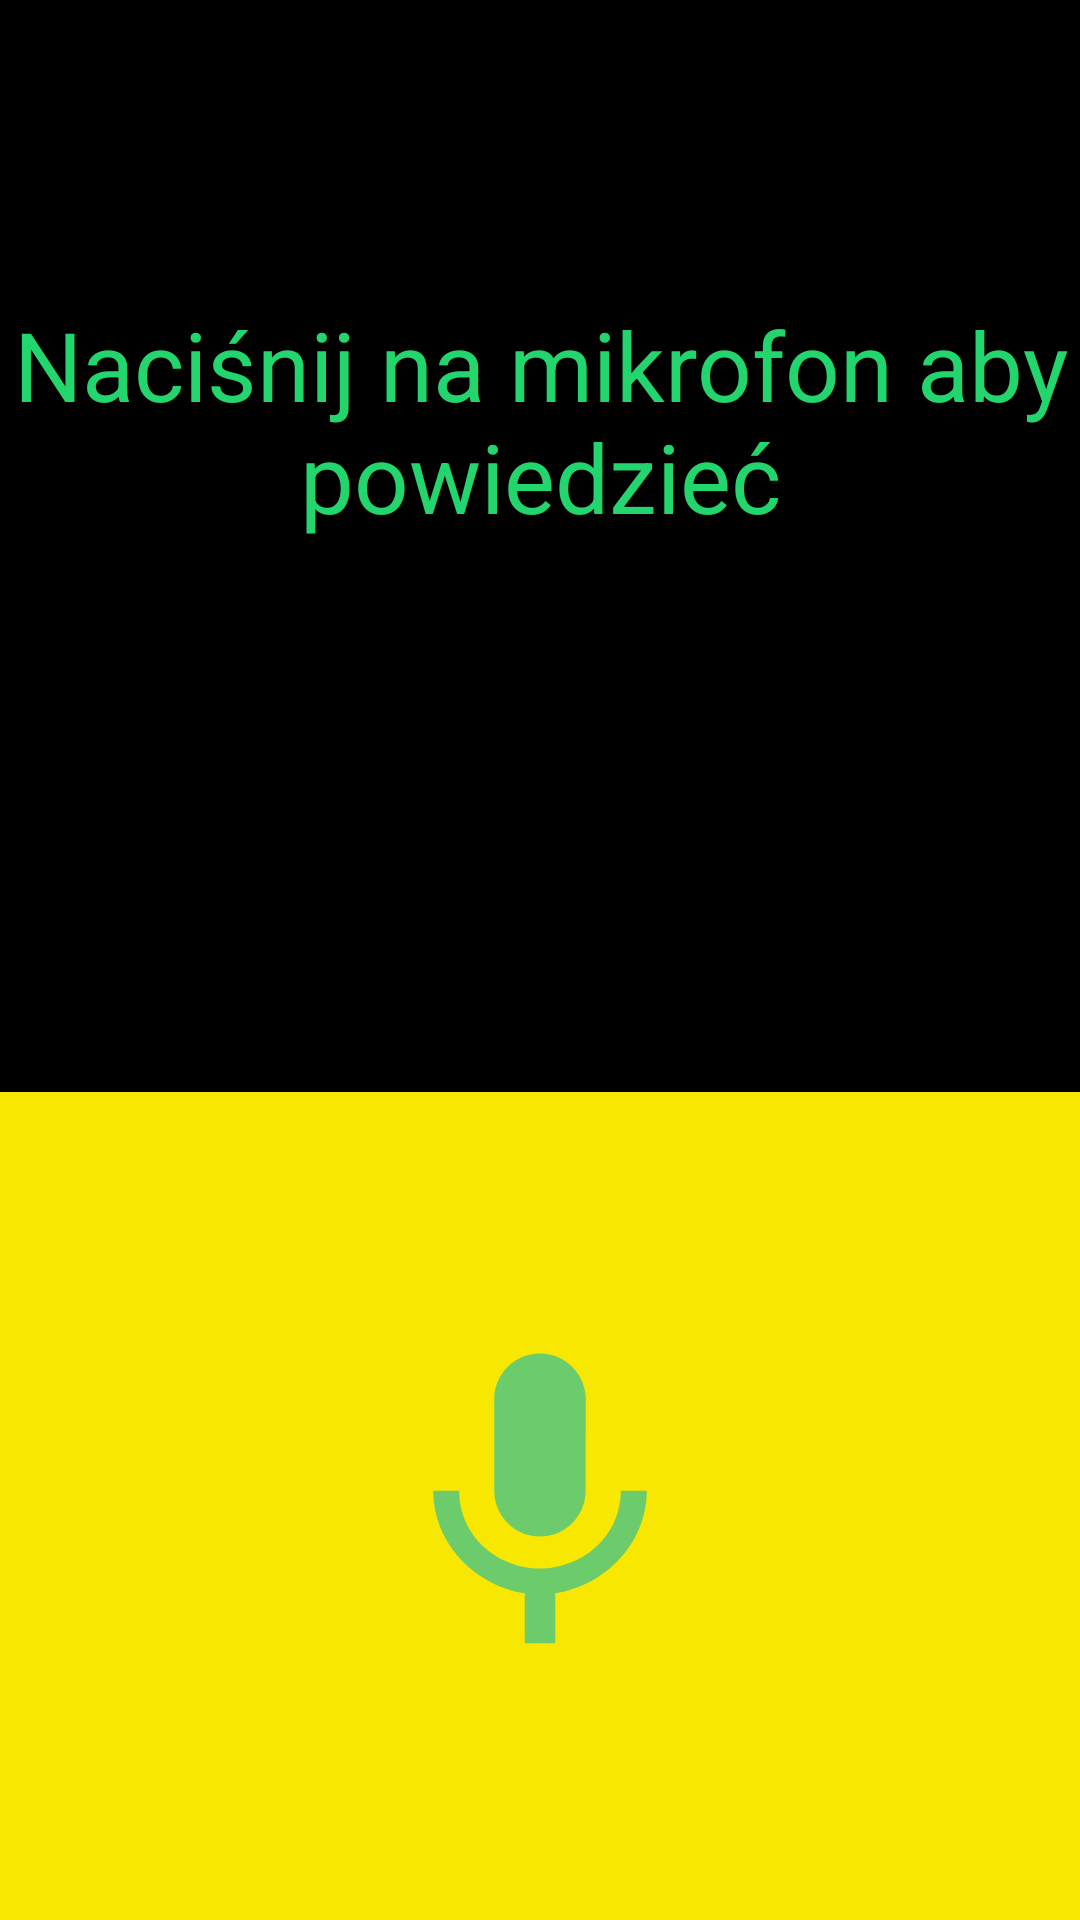

Locate icon controls on the screen. Image size 1080 × 1920, boxes as (x1, y1, x2, y2).
Microphone. Tap on microphone to speak: (433, 1353, 647, 1644)
